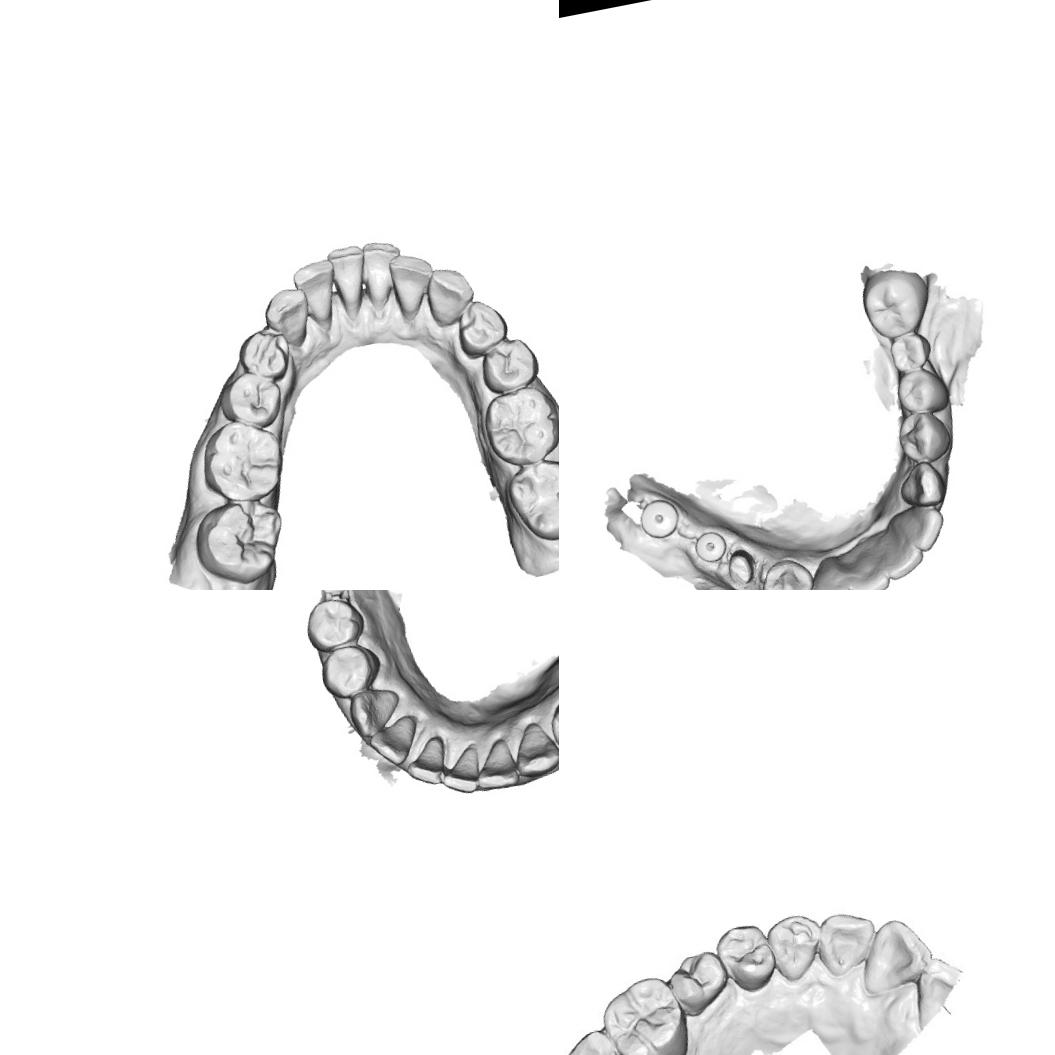canine: (762, 908, 828, 987), (258, 282, 315, 354), (342, 680, 407, 740), (421, 262, 479, 329), (508, 716, 559, 781), (892, 456, 950, 510), (755, 551, 818, 590)
crown: (720, 543, 759, 590)
implant: (634, 492, 682, 542), (689, 525, 730, 566)
incisor: (852, 915, 934, 996), (813, 908, 878, 980), (384, 248, 440, 324), (357, 236, 410, 314), (888, 500, 950, 558), (288, 256, 342, 322), (324, 240, 373, 311), (874, 521, 927, 582), (365, 712, 422, 768), (401, 733, 454, 790), (470, 737, 521, 795), (437, 744, 486, 798), (839, 542, 892, 590), (803, 553, 854, 590)
molar: (186, 491, 293, 590), (193, 412, 290, 509), (595, 976, 690, 1055), (477, 381, 559, 471), (855, 263, 933, 344), (500, 451, 559, 548), (886, 328, 936, 374), (559, 1026, 632, 1055)
premolar: (661, 946, 730, 1020), (215, 365, 287, 434), (313, 637, 387, 702), (710, 922, 778, 992), (300, 592, 369, 656), (476, 334, 543, 396), (892, 404, 957, 467), (451, 294, 512, 358), (234, 325, 294, 385), (892, 363, 952, 418), (543, 691, 559, 754)
